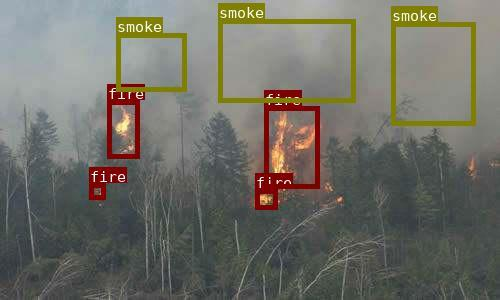fire: (263, 105, 319, 188), (107, 99, 139, 157), (255, 188, 276, 209), (89, 182, 105, 198)
smoke: (217, 18, 354, 102), (391, 21, 474, 124), (116, 32, 185, 91)
